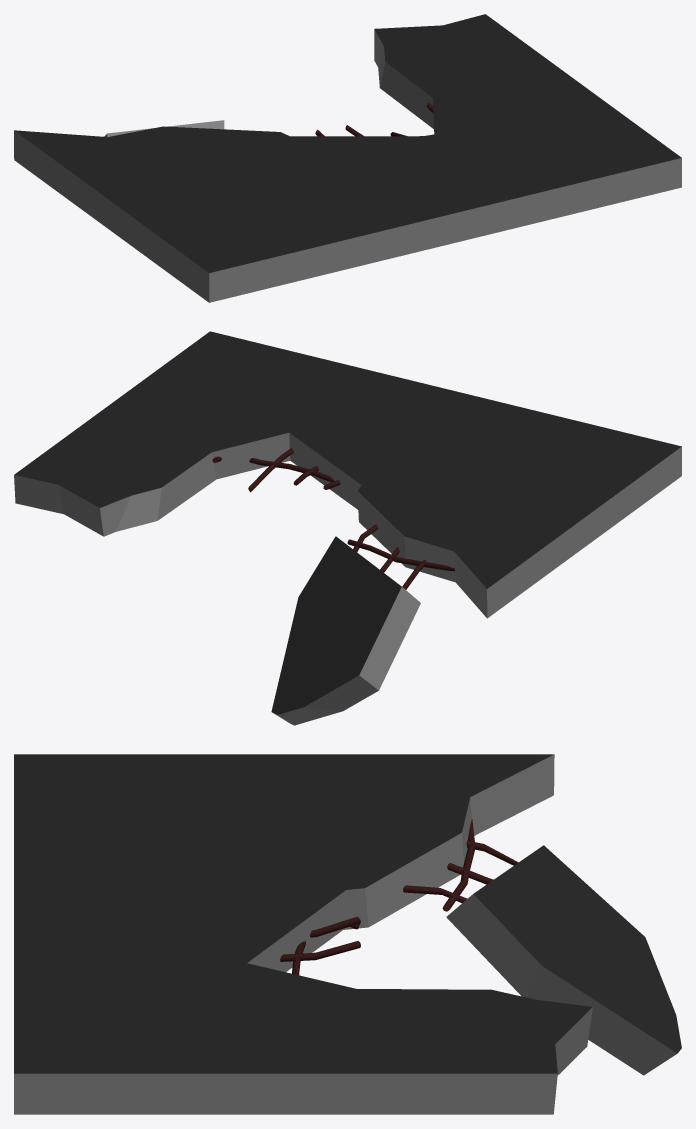
The model's file is P_SolCasséTest1.FBX.
The picture shows the model from 3 angles, top to bottom: view 1: azimuth 30°, elevation 25°; view 2: azimuth 150°, elevation 25°; view 3: azimuth 270°, elevation 25°; orthographic projection. The views are drawn at different scales.
Visible parts, largest first — view 1: Box012_Part_11; view 2: Box012_Part_11; view 3: Box012_Part_11.
Part boxes in pixels (left/top/right/bottom): Box012_Part_11: left=14, top=14, right=681, bottom=302; Box012_Part_11: left=14, top=331, right=681, bottom=725; Box012_Part_11: left=14, top=754, right=681, bottom=1114.
Size of the model in its own units: 500 by 442 by 153.
